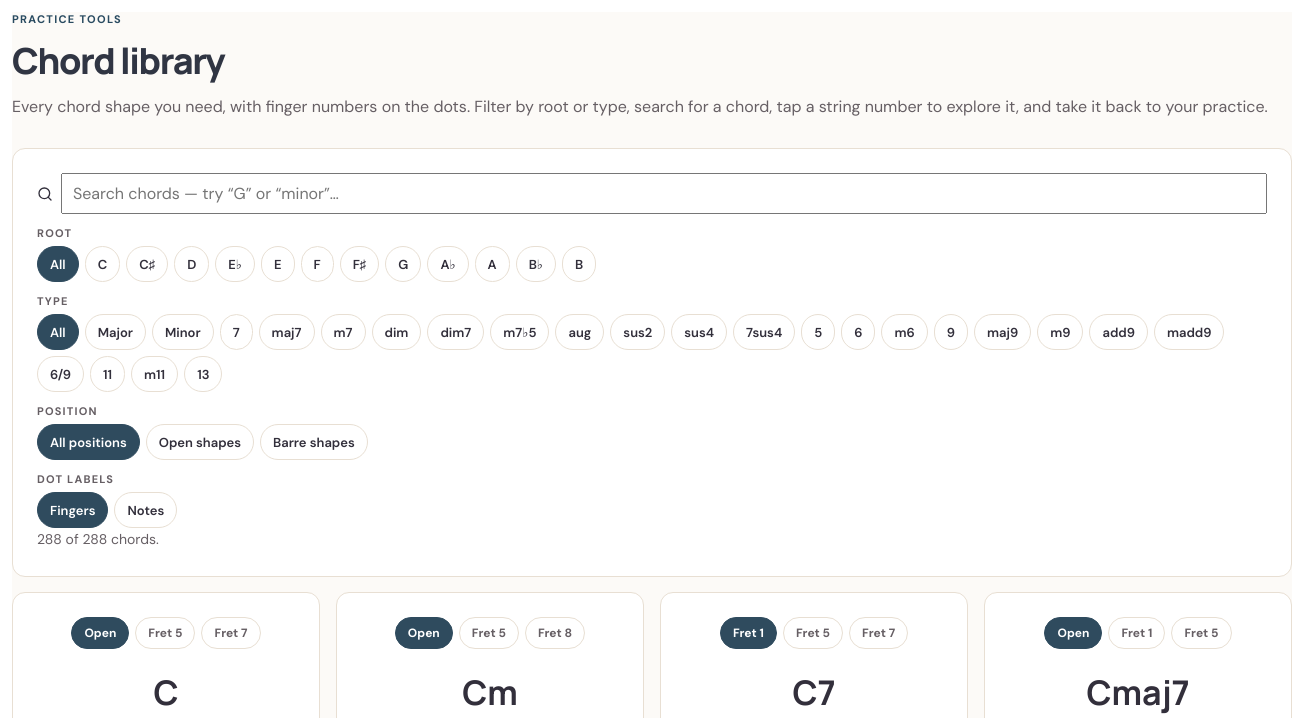
Test case: tools pages › ChordLibraryPage filters by position (open vs barre shapes)
What coordinates should you click on to do the following:
click the button "Barre shapes"
I would click on:
 (314, 442)
Its box is [260,424,368,460].
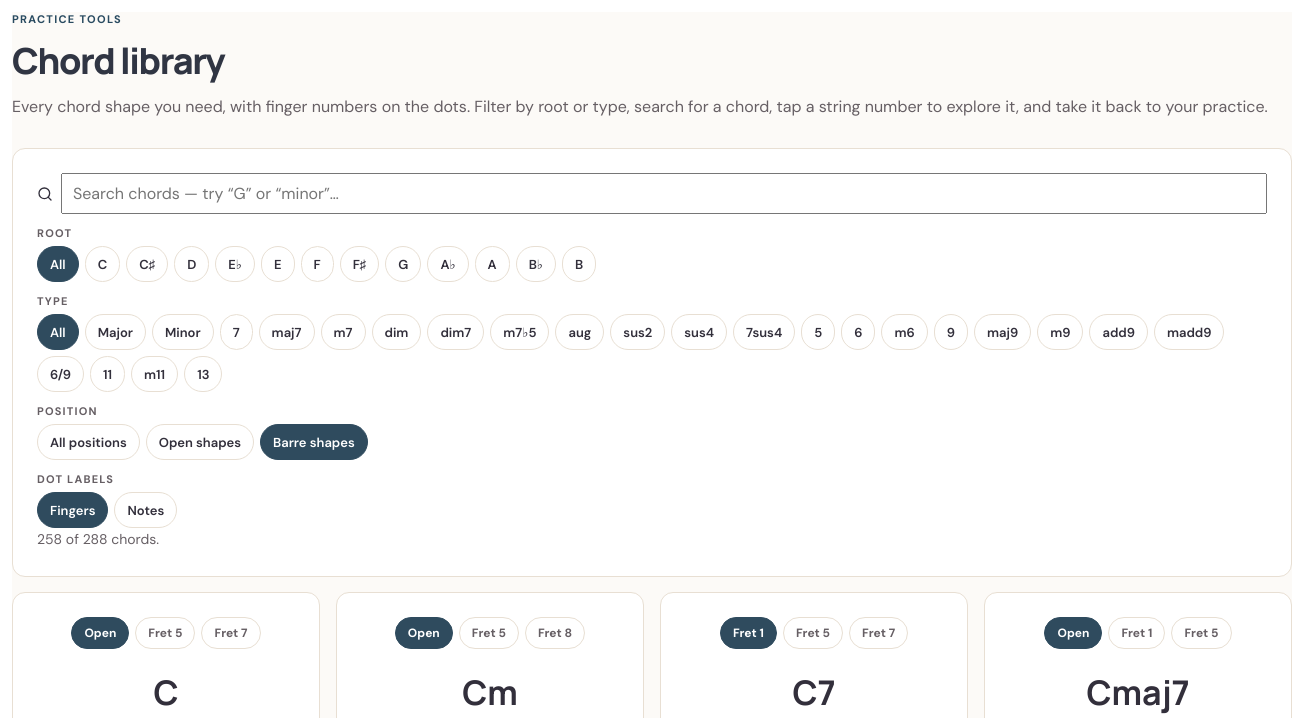
What coordinates should you click on to do the following:
click the button "Open shapes"
I would click on:
 (200, 442)
Its box is [146,424,254,460].
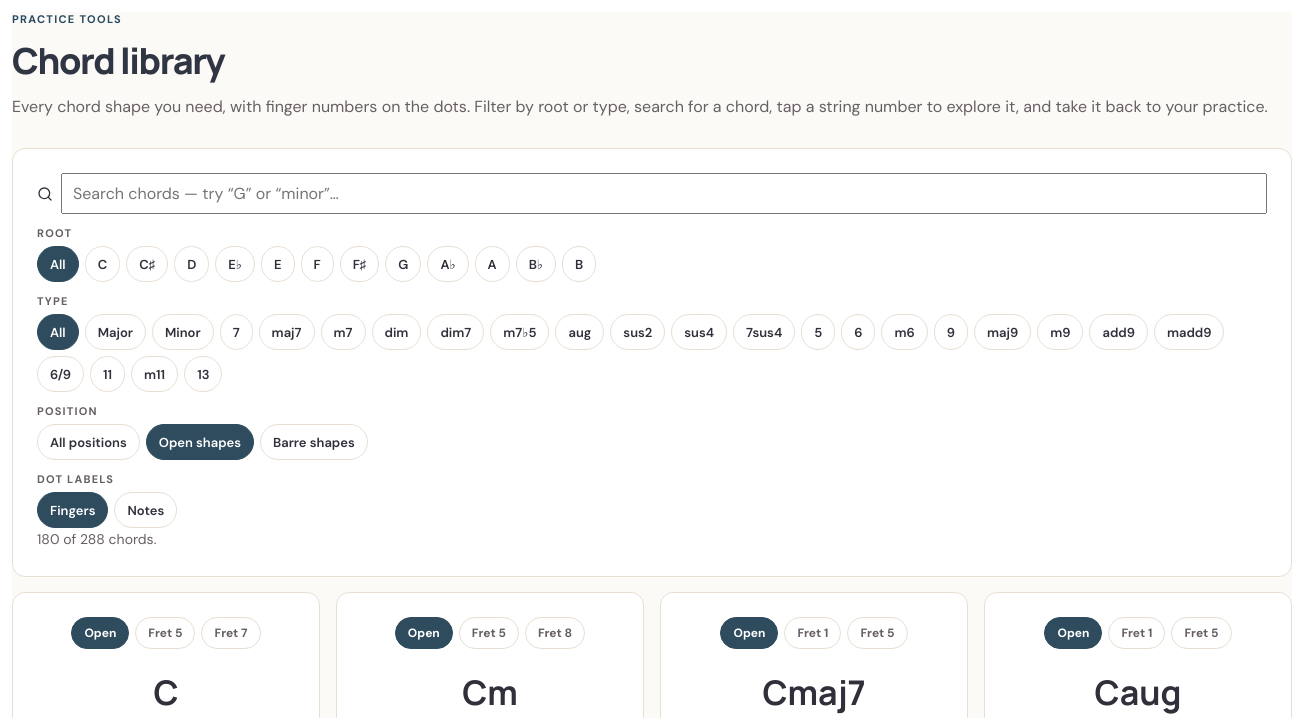
# Back to all positions restores the full grid.
What coordinates should you click on to do the following:
click the button "All positions"
I would click on:
 (88, 442)
Its box is [37,424,140,460].
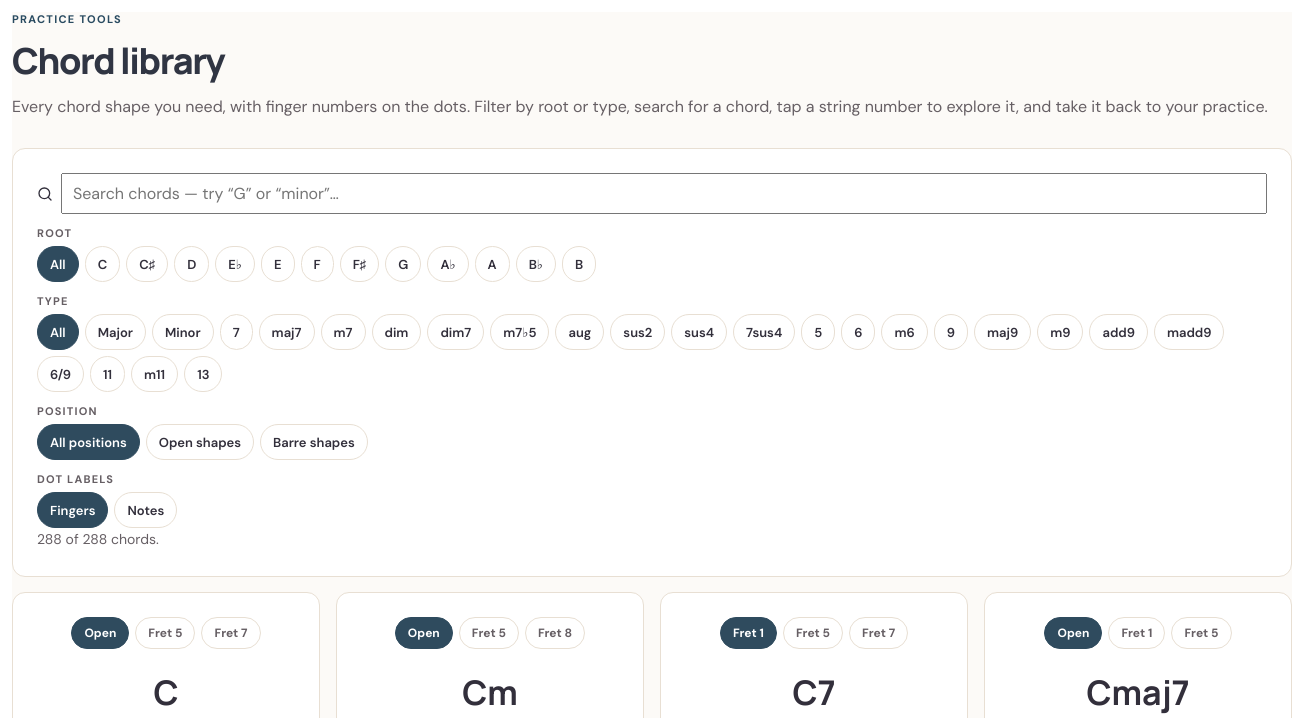
Check: the number of elements with class "chord-diagram" is 288
